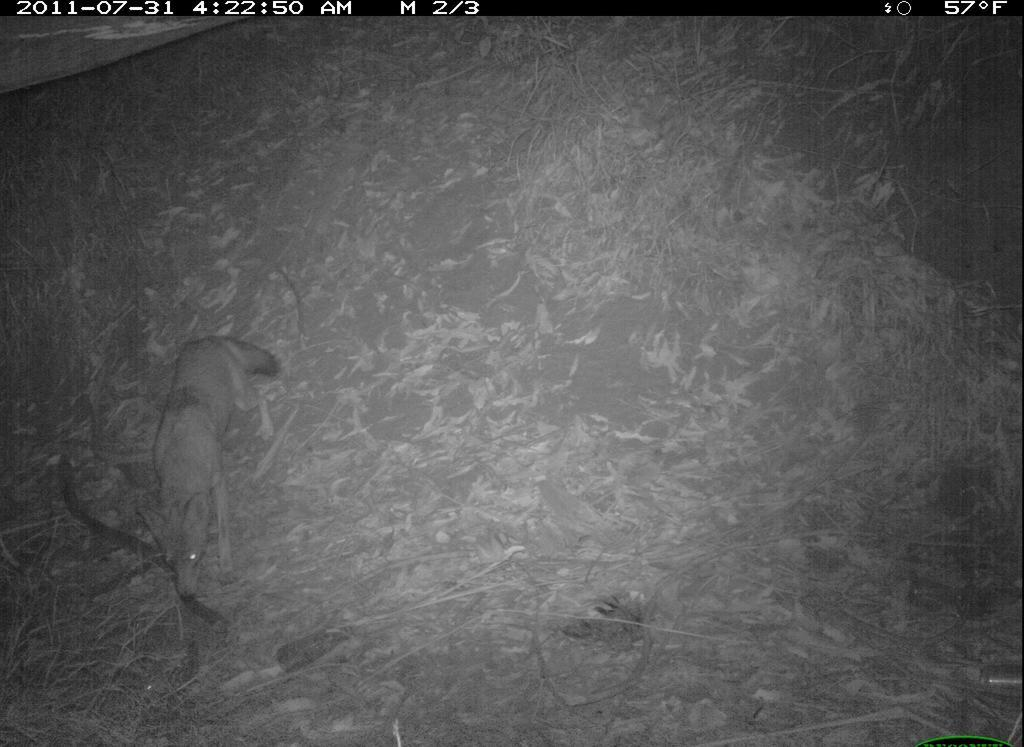coyote: (127, 327, 289, 611)
